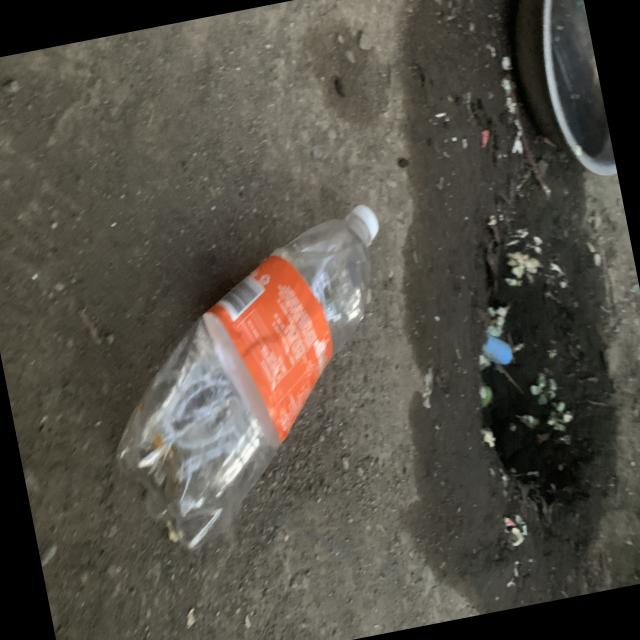Bottle: (118, 205, 379, 549)
